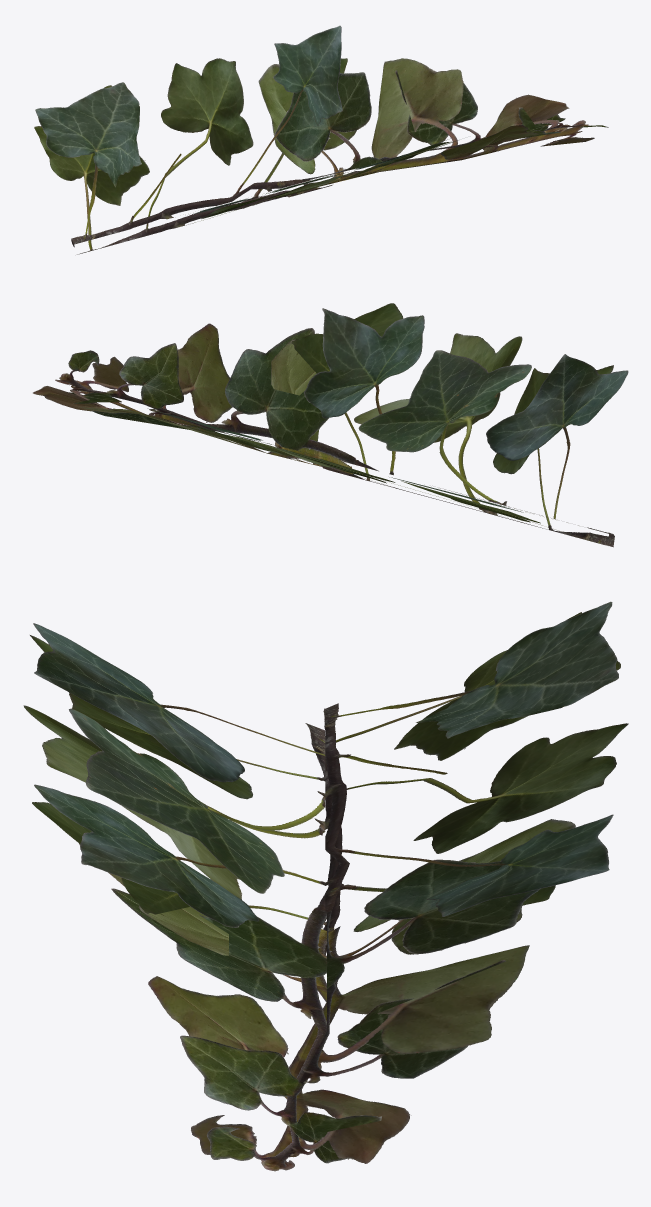
File: stumbletwine_01.fbx
3 renders of one model, top to bottom at view 1: azimuth 30°, elevation 25°; view 2: azimuth 150°, elevation 25°; view 3: azimuth 270°, elevation 25°, orthographic. The views are drawn at different scales.
Visible parts, largest first — view 1: stumbletwine_01; view 2: stumbletwine_01; view 3: stumbletwine_01.
Part boxes in pixels (left/top/right/bottom): stumbletwine_01: left=34, top=25, right=608, bottom=254; stumbletwine_01: left=33, top=303, right=628, bottom=547; stumbletwine_01: left=23, top=601, right=628, bottom=1171.
Size of the model in its own units: 20 by 37.51 by 6.77.
